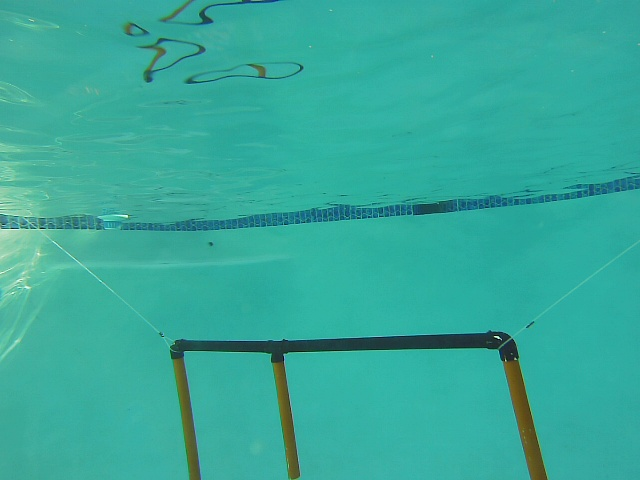Gate: (502, 356, 548, 480), (166, 352, 205, 480), (271, 357, 307, 480)
